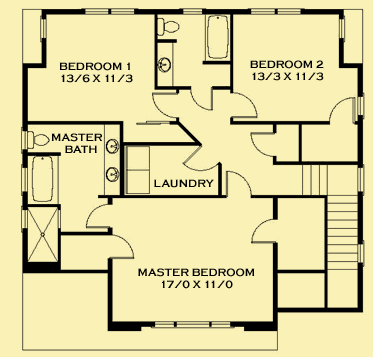door: (182, 146, 219, 171), (152, 91, 182, 120), (107, 233, 137, 262), (250, 216, 279, 246), (327, 96, 356, 125), (231, 92, 258, 120), (225, 169, 252, 197), (188, 86, 215, 113), (249, 131, 276, 157), (84, 204, 112, 229)
large_sink: (156, 16, 181, 38), (27, 129, 52, 149)
small_sink: (102, 125, 122, 197), (157, 42, 175, 87)
stairs: (326, 165, 358, 273)
tub: (27, 156, 59, 204), (204, 14, 231, 62)
window: (152, 319, 233, 330), (82, 6, 136, 15), (249, 7, 304, 15), (21, 165, 29, 196), (38, 16, 47, 43), (338, 15, 347, 39), (180, 8, 204, 16), (20, 206, 27, 232)
